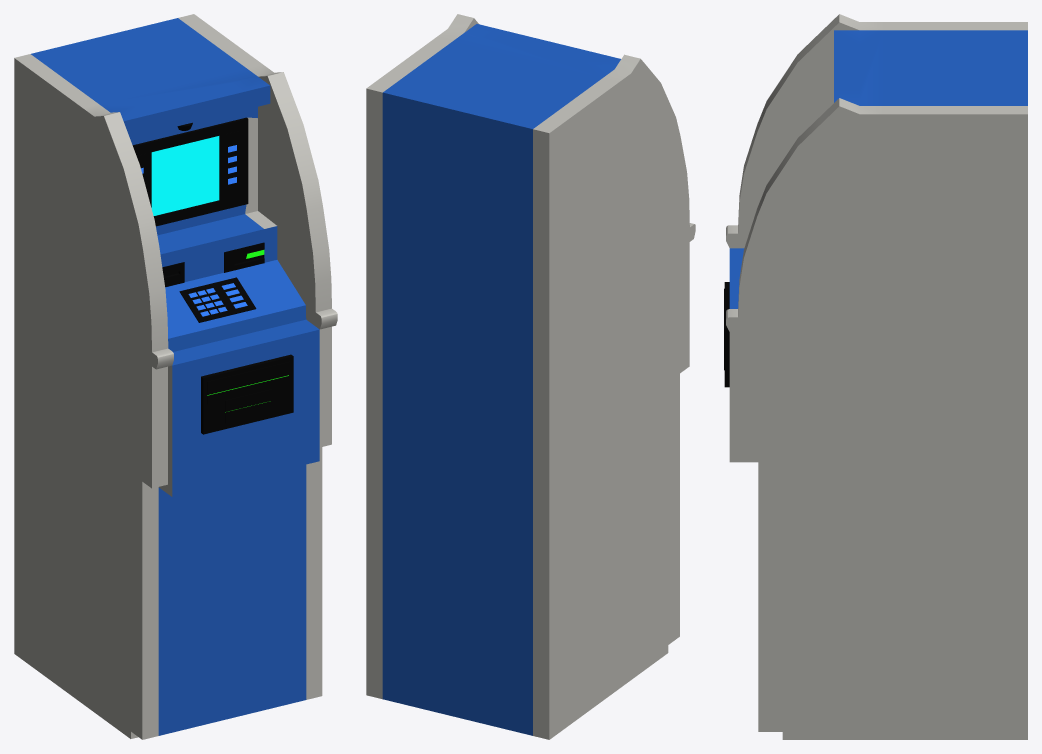
Rendered from atm.glb.
The picture shows the model from 3 angles, left to right: view 1: azimuth 30°, elevation 25°; view 2: azimuth 150°, elevation 25°; view 3: azimuth 270°, elevation 25°; orthographic projection. The views are drawn at different scales.
Visible parts, largest first — view 1: Principal_0, MoneyOutputPanel_1, ScreenPanel_2, Screen_4, KeyPanel_3, CardEntryandBolet_5; view 2: Principal_0; view 3: Principal_0, MoneyOutputPanel_1.
Part boxes in pixels (x1,y1,x2,y2): Principal_0: [14, 14, 337, 739]; MoneyOutputPanel_1: [201, 354, 293, 434]; ScreenPanel_2: [132, 117, 248, 226]; Screen_4: [151, 136, 219, 215]; KeyPanel_3: [179, 277, 256, 322]; CardEntryandBolet_5: [162, 242, 264, 287]; Principal_0: [366, 14, 695, 739]; Principal_0: [726, 14, 1027, 739]; MoneyOutputPanel_1: [724, 282, 729, 387].
Bounding box in the file's own units: 0.621 × 1.99 × 0.8641.
